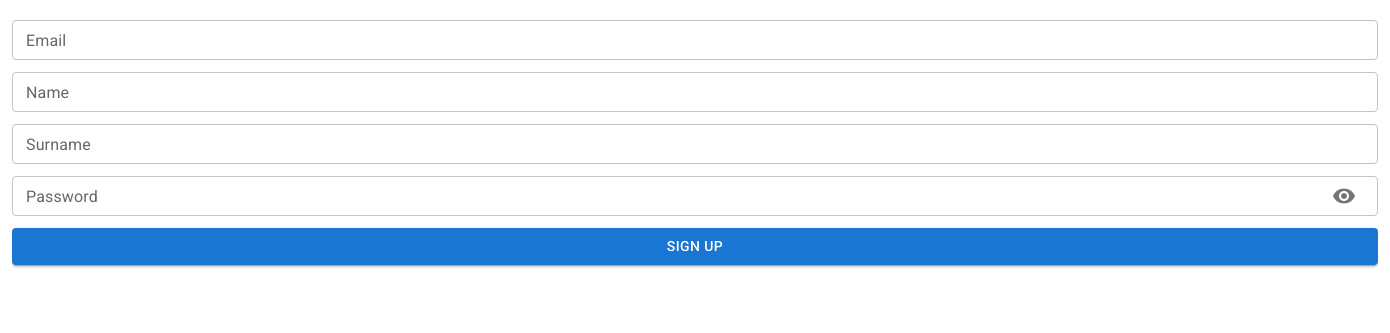
AuthForm › shows an error message when signupAction returns an error
In the field labelled "Email": (695, 40) 12,20 -> 1378,60, type "test@example.com"
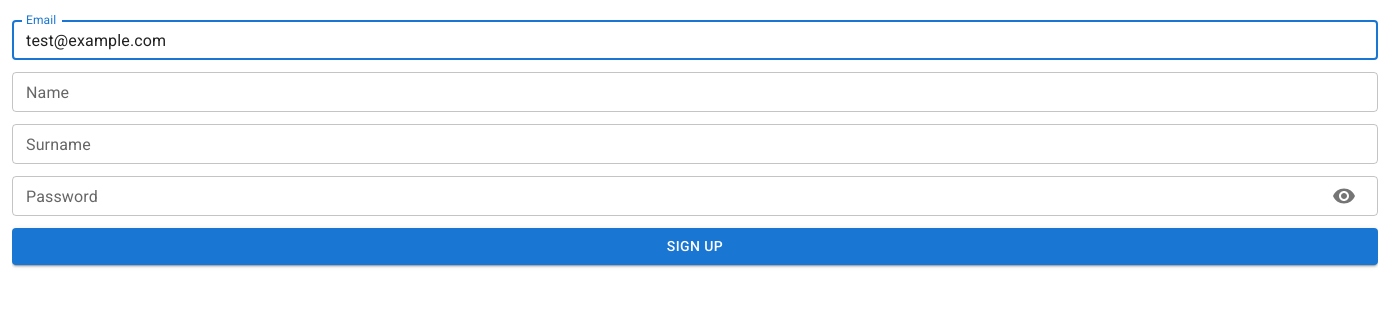
In the field labelled "Surname": (695, 144) 12,124 -> 1378,164, type "Surname"
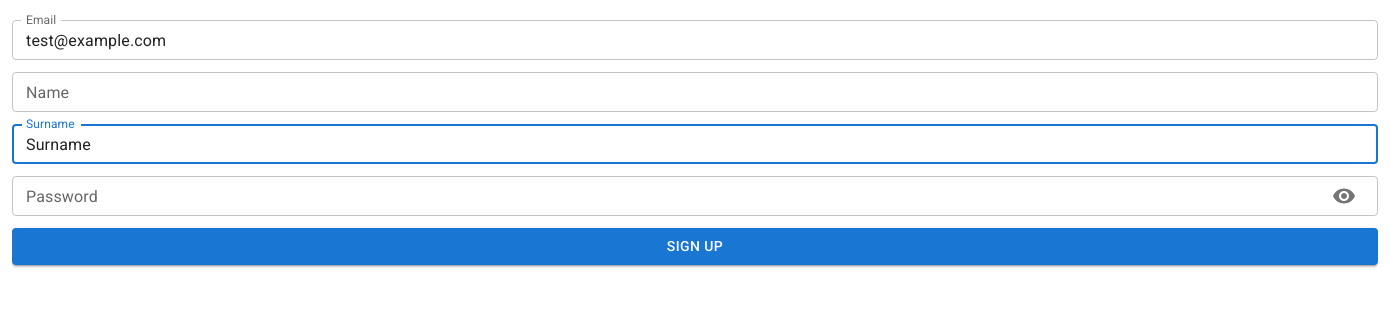
In the field labelled "Name": (695, 92) 12,72 -> 1378,112, type "User"
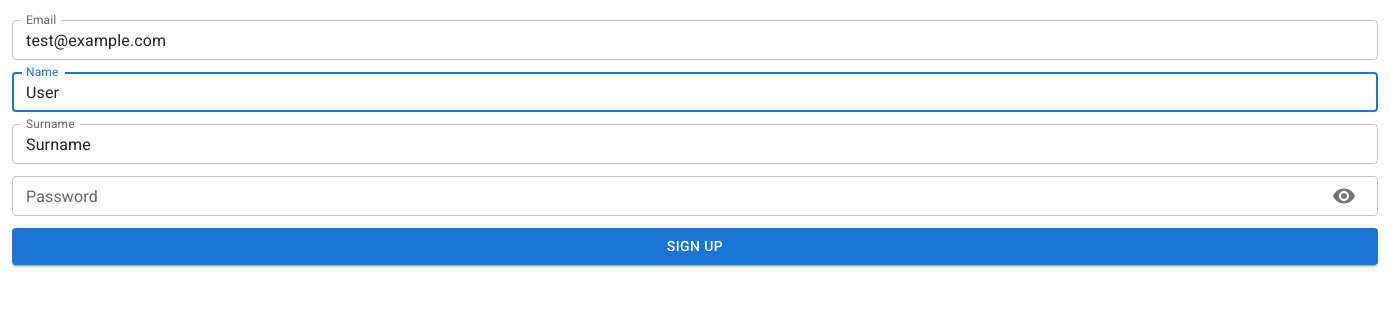
In the password field labelled "Password": (664, 196) 12,176 -> 1316,216, type "password123"
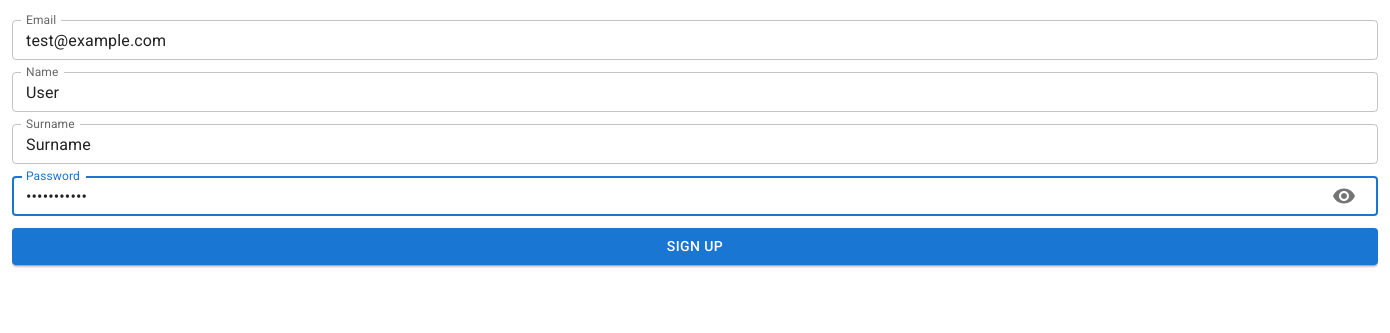
Click the button "Sign up": click(695, 246) 12,228 -> 1378,264
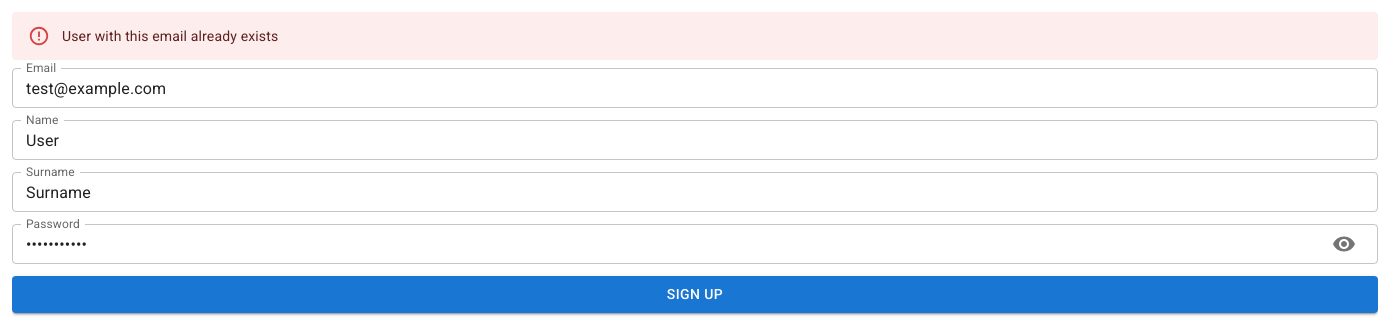
expect the text "User with this email already exists" is shown: met, box 62,28 -> 278,44
